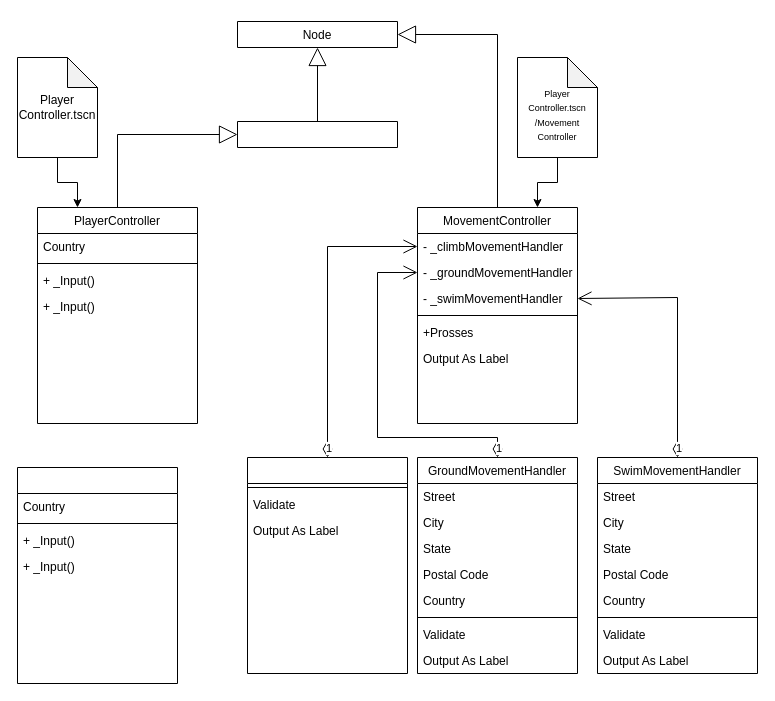
The diagram is 775 pixels wide and 701 high, and some of its shapes have lost their labels. Here are the shapes that lost their labels. From the top down, the box of each, then its label:
(236, 120, 398, 148): PlayerCharacter3D
(16, 466, 178, 684): MovementState
(246, 456, 408, 674): ClimbMovementHandler
